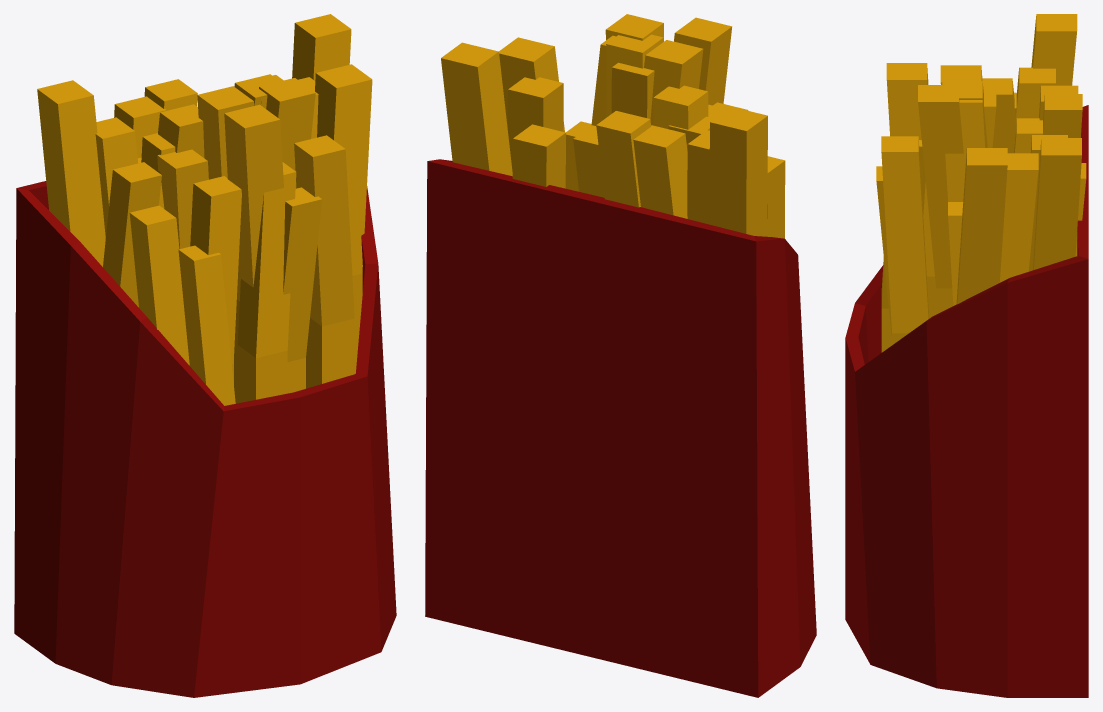
File: fries.fbx
The picture shows the model from 3 angles, left to right: view 1: azimuth 30°, elevation 25°; view 2: azimuth 150°, elevation 25°; view 3: azimuth 270°, elevation 25°; orthographic projection. The views are drawn at different scales.
Visible parts, largest first — view 1: FryHolder; view 2: FryHolder; view 3: FryHolder.
Boxes of the visible parts, x1,y1,x2,y2 form: FryHolder: (14,14,396,697); FryHolder: (425,14,816,697); FryHolder: (845,14,1088,697).
Size of the model in its own units: 110 by 178 by 72.3.
